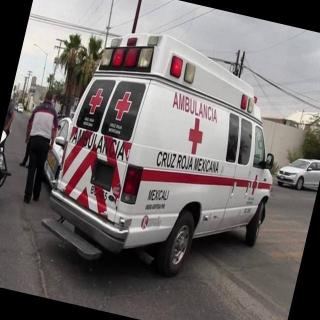Ambulance: (24, 14, 312, 308)
